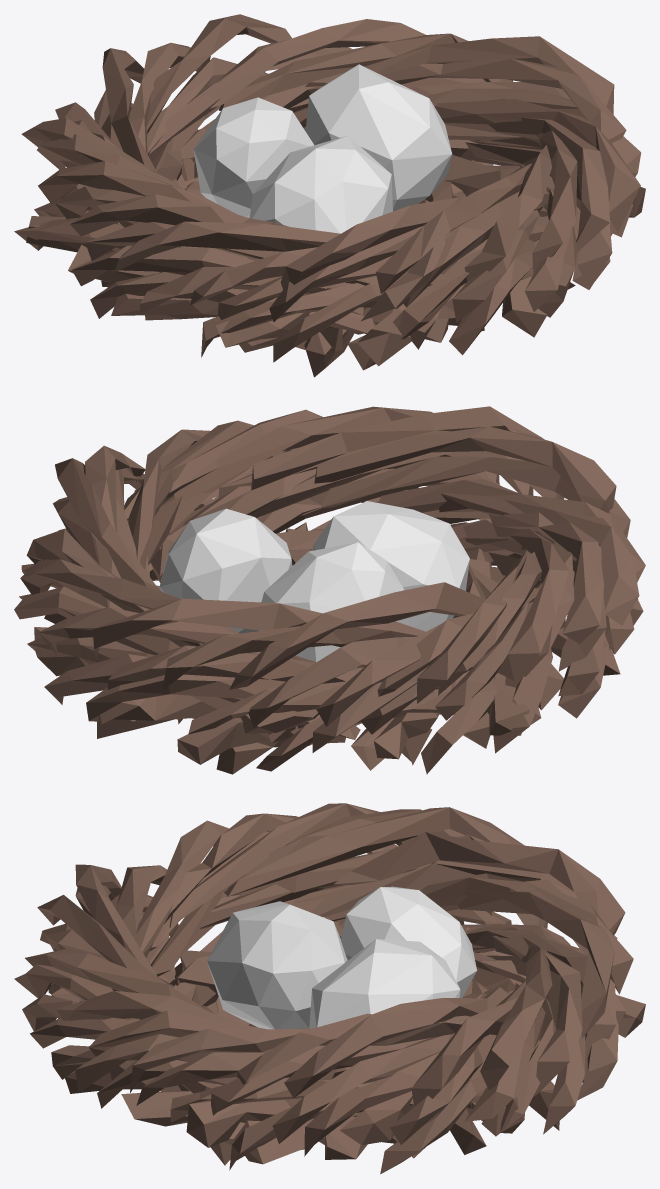
Rendered from Nest_03.fbx.
3 views of the same model, one above another, from view 1: azimuth 30°, elevation 25°; view 2: azimuth 150°, elevation 25°; view 3: azimuth 270°, elevation 25° (orthographic). The views are drawn at different scales.
Visible parts, largest first — view 1: Nest_03_LOD0; view 2: Nest_03_LOD0; view 3: Nest_03_LOD0.
Boxes of the visible parts, bbox=[...] form: Nest_03_LOD0: bbox=[14, 14, 645, 377]; Nest_03_LOD0: bbox=[14, 406, 645, 774]; Nest_03_LOD0: bbox=[14, 803, 645, 1174].
Size of what is drawn, in the model's own units: 47.14 by 15.65 by 47.85.
